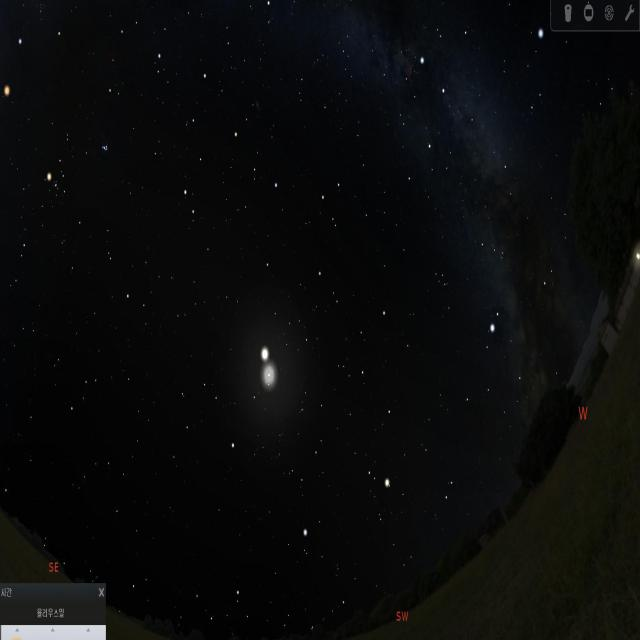aquila: (460, 313, 536, 436)
cygnus: (413, 25, 512, 181)
lyra: (514, 20, 550, 129)
moon: (242, 342, 292, 414)
pleiades: (98, 137, 106, 157)
taurus: (39, 119, 112, 223)
